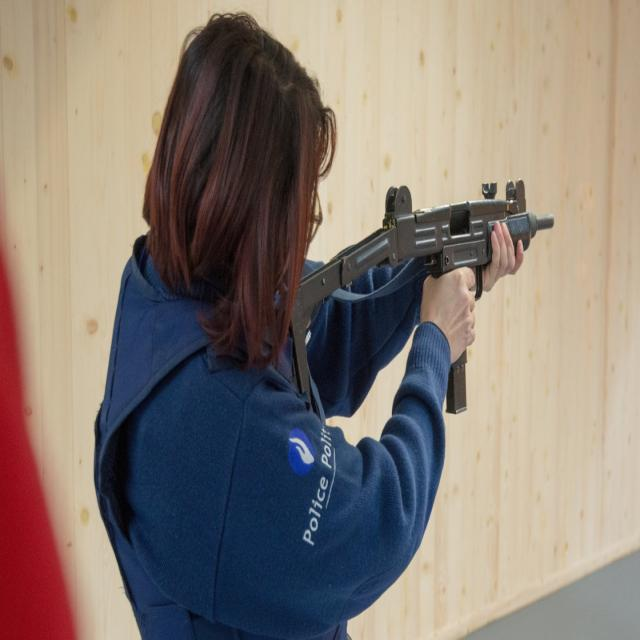SMG: (292, 182, 554, 413)
